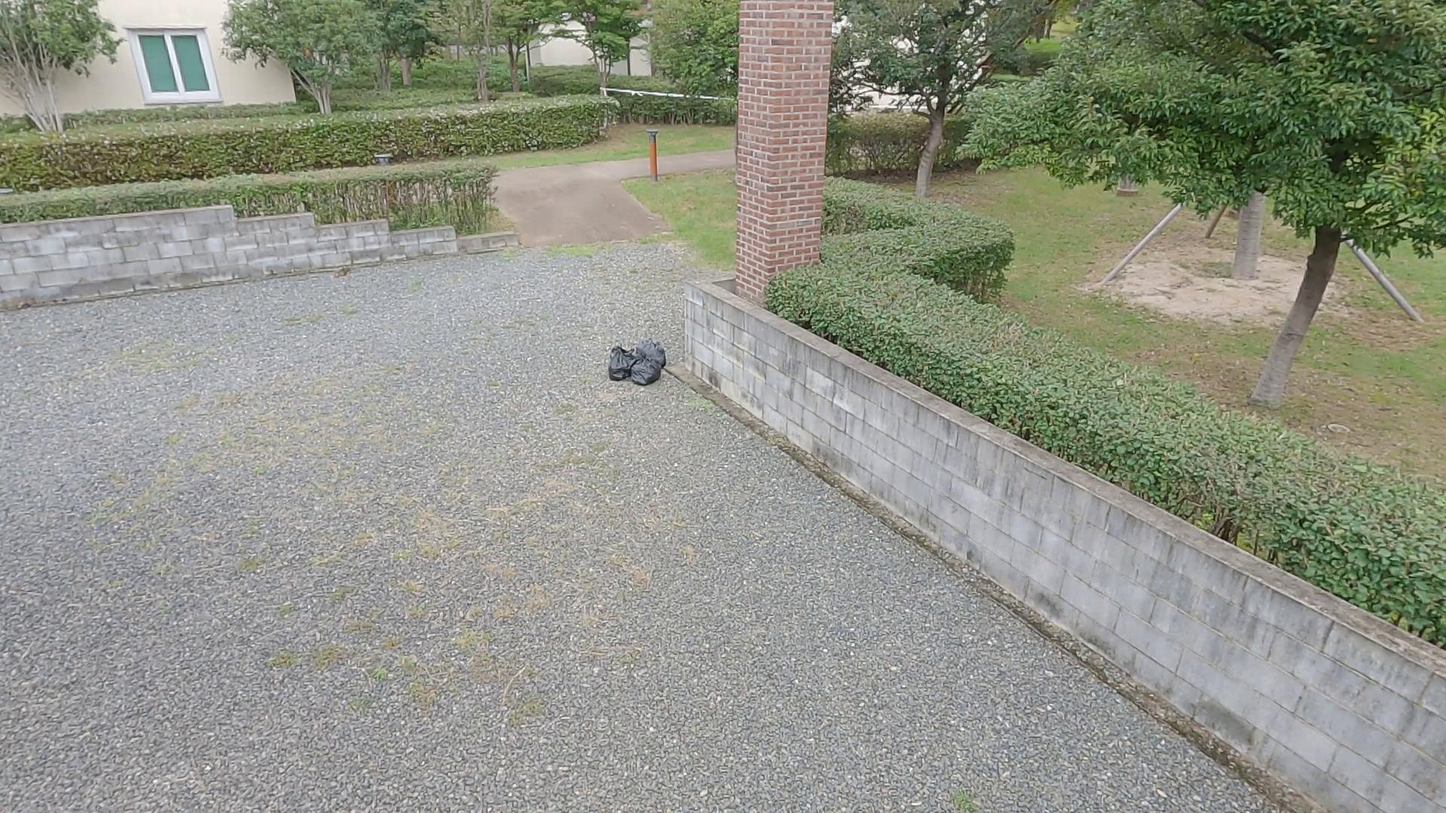trash: (626, 349, 664, 395), (608, 344, 642, 384), (641, 337, 670, 370)
